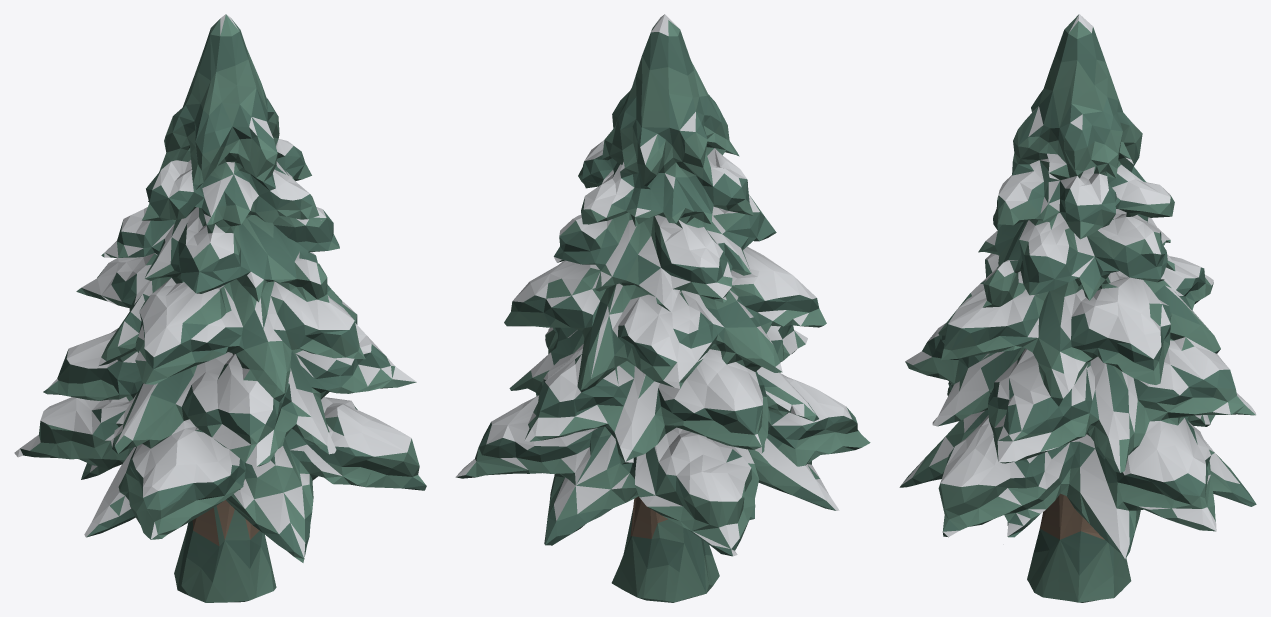
The model's file is meshy-tree-1.glb.
The picture shows the model from 3 angles, left to right: view 1: azimuth 30°, elevation 25°; view 2: azimuth 150°, elevation 25°; view 3: azimuth 270°, elevation 25°; orthographic projection.
Visible parts, largest first — view 1: meshy_tree; view 2: meshy_tree; view 3: meshy_tree.
Part boxes in pixels (x1,y1,x2,y2): meshy_tree: [14, 14, 426, 602]; meshy_tree: [455, 14, 870, 602]; meshy_tree: [899, 14, 1256, 602].
Bounding box in the file's own units: 3.71 × 6.5 × 3.7.
